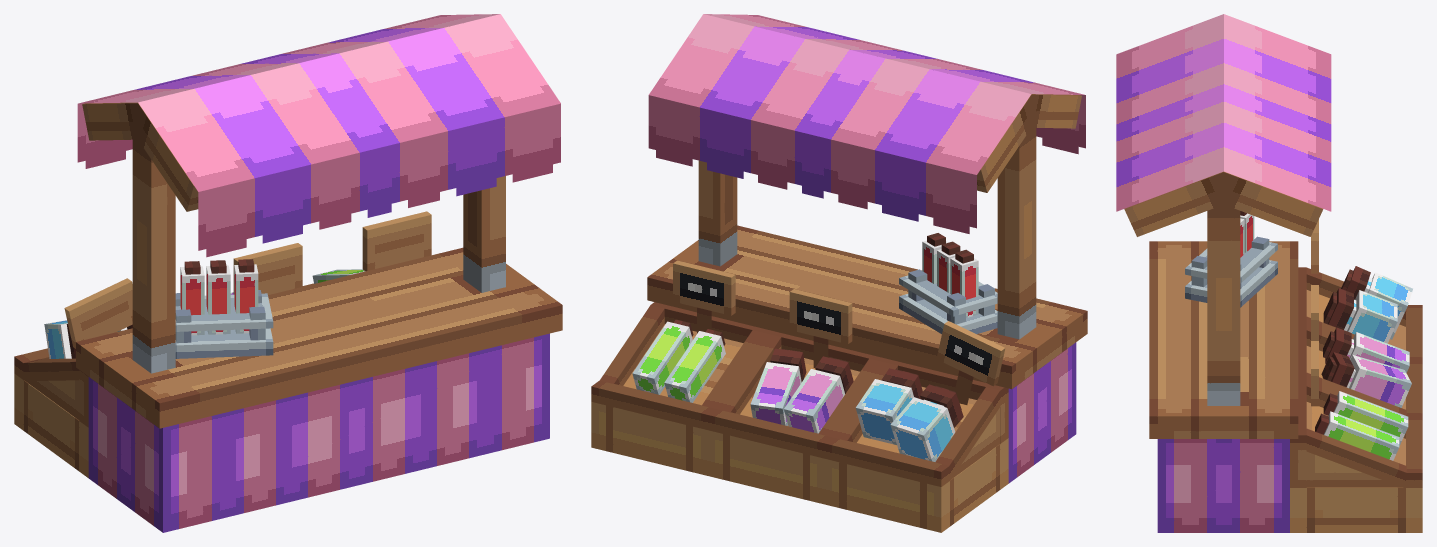
Rendered from potion-stall.gltf.
3 renders of one model, left to right at view 1: azimuth 30°, elevation 25°; view 2: azimuth 150°, elevation 25°; view 3: azimuth 270°, elevation 25°, orthographic. The views are drawn at different scales.
Parts seen in each view (by area): view 1: cube (×22); view 2: cube (×42); view 3: cube (×39).
Boxes of the visible parts, x1,y1,x2,y2 form: cube (×22): [14, 14, 562, 532]; cube (×42): [591, 14, 1087, 532]; cube (×39): [1116, 14, 1422, 532].
Bounding box in the file's own units: 2.34 × 2.22 × 1.73.
2 materials, 2 textured.
